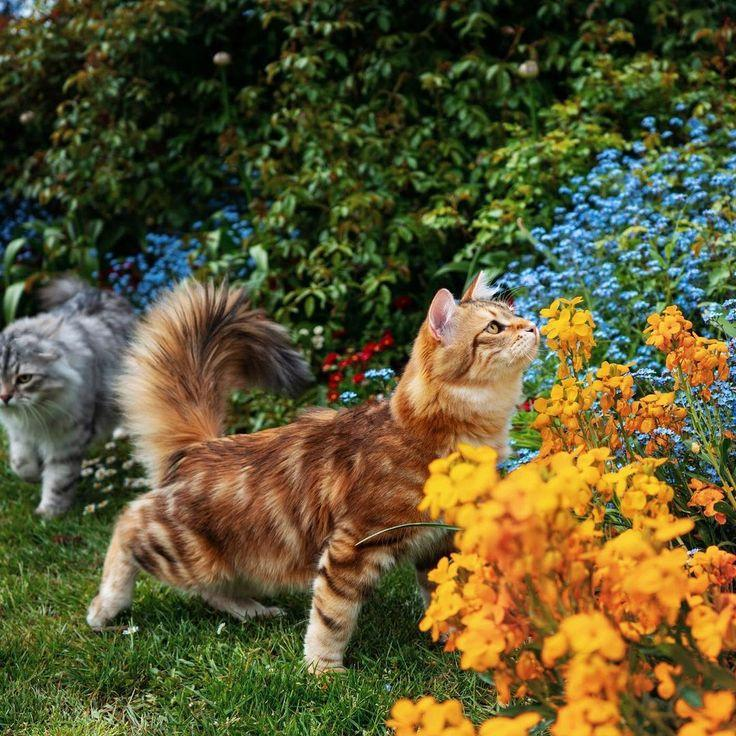kedo: (94, 277, 543, 671)
